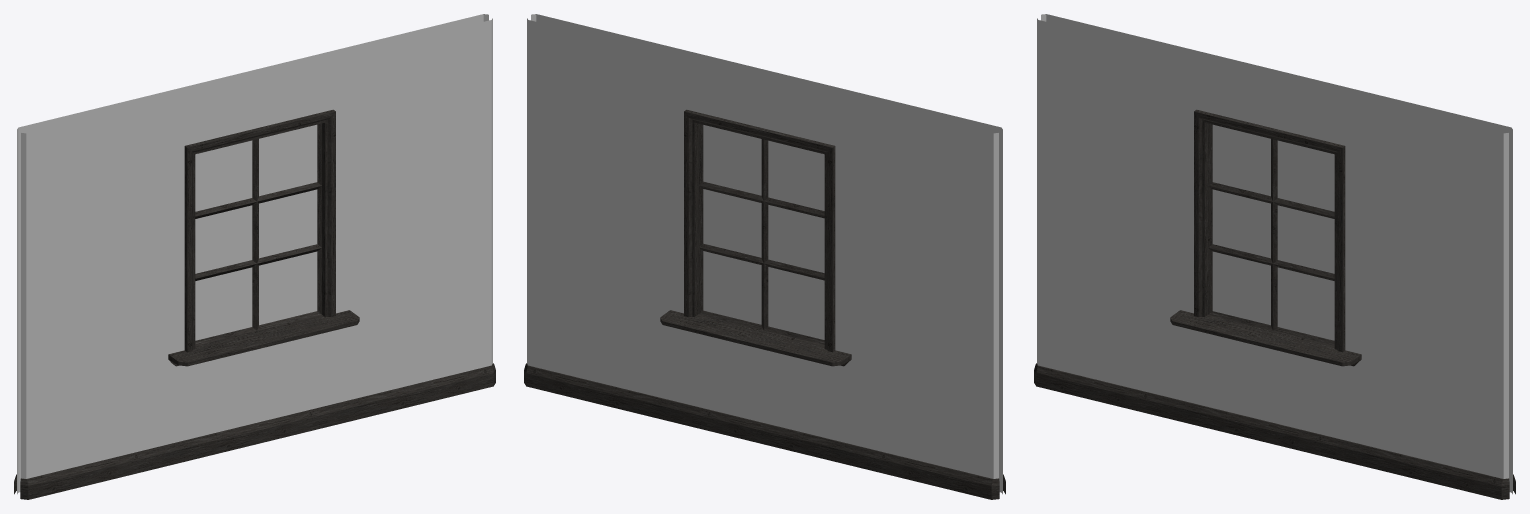
File: window_2_2_single.fbx
3 renders of one model, left to right at view 1: azimuth 30°, elevation 25°; view 2: azimuth 150°, elevation 25°; view 3: azimuth 330°, elevation 25°, orthographic.
Visible parts, largest first — view 1: window_2_2_single; view 2: window_2_2_single; view 3: window_2_2_single.
Boxes of the visible parts, x1=… form: window_2_2_single: x1=14, y1=14, x2=495, y2=499; window_2_2_single: x1=524, y1=14, x2=1005, y2=499; window_2_2_single: x1=1034, y1=14, x2=1515, y2=499.
Size of the model in its own units: 4.09 by 3 by 0.52.
